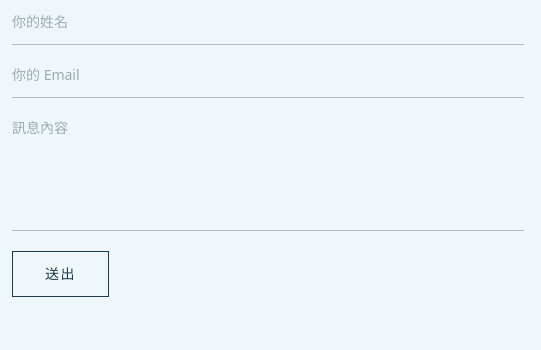
shows error message when submit fails
Step 1. Type "Test User" into the field with placeholder "你的姓名" → [268, 28], box x1=12 y1=12 x2=524 y2=45
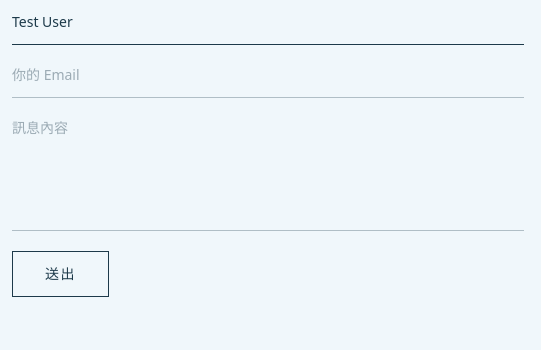
Step 2. Type "test@example.com" into the field with placeholder "你的 Email" → [268, 82], box x1=12 y1=65 x2=524 y2=98
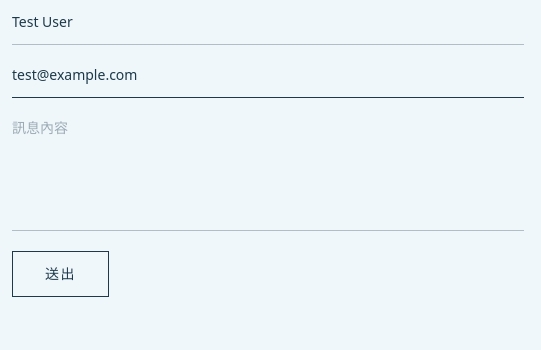
Step 3. Type "Hello there" into the text box with placeholder "訊息內容" → [268, 174], box x1=12 y1=118 x2=524 y2=231
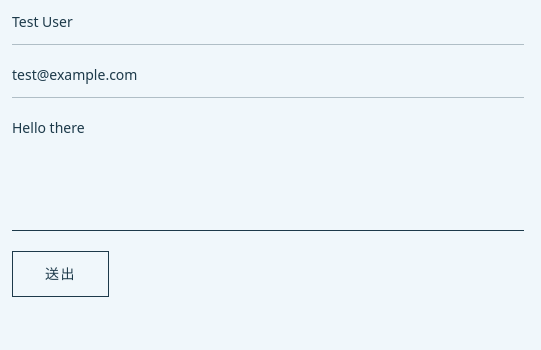
Step 4. Click the button "送出" → [60, 274], box x1=12 y1=251 x2=109 y2=297
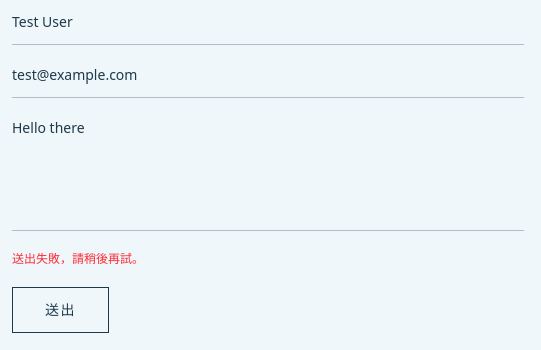
Result: the text "送出失敗，請稍後再試。" is shown at x1=12 y1=250 x2=144 y2=267
